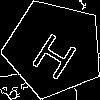H: (29, 24, 85, 82)
